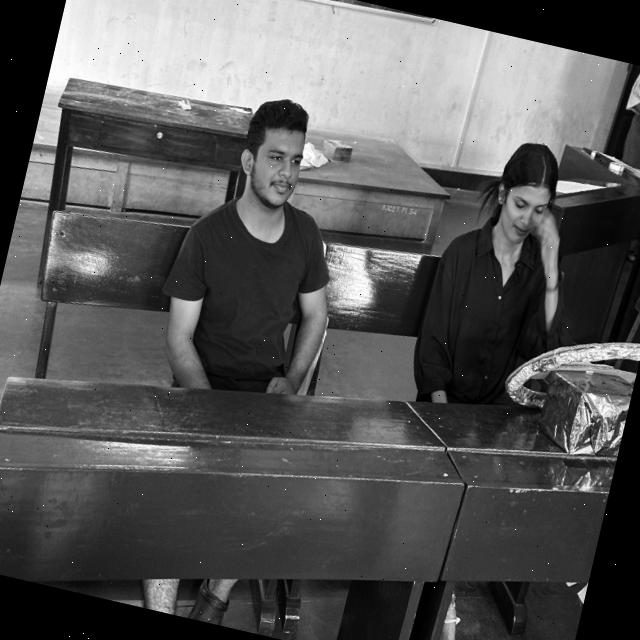no-seatbelt: (138, 184, 358, 428), (400, 219, 572, 432)
